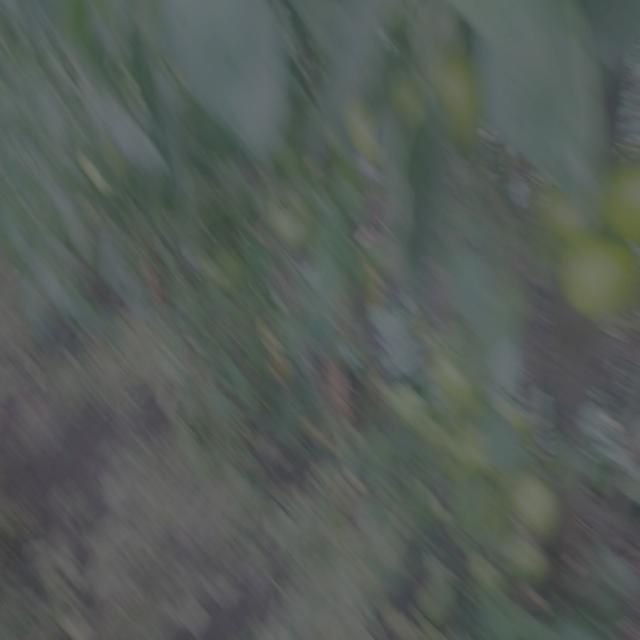tomato: (559, 236, 640, 331), (509, 468, 577, 543), (438, 49, 481, 121), (262, 196, 307, 256), (394, 58, 432, 128), (432, 359, 474, 415), (607, 163, 640, 231), (518, 538, 553, 583)
